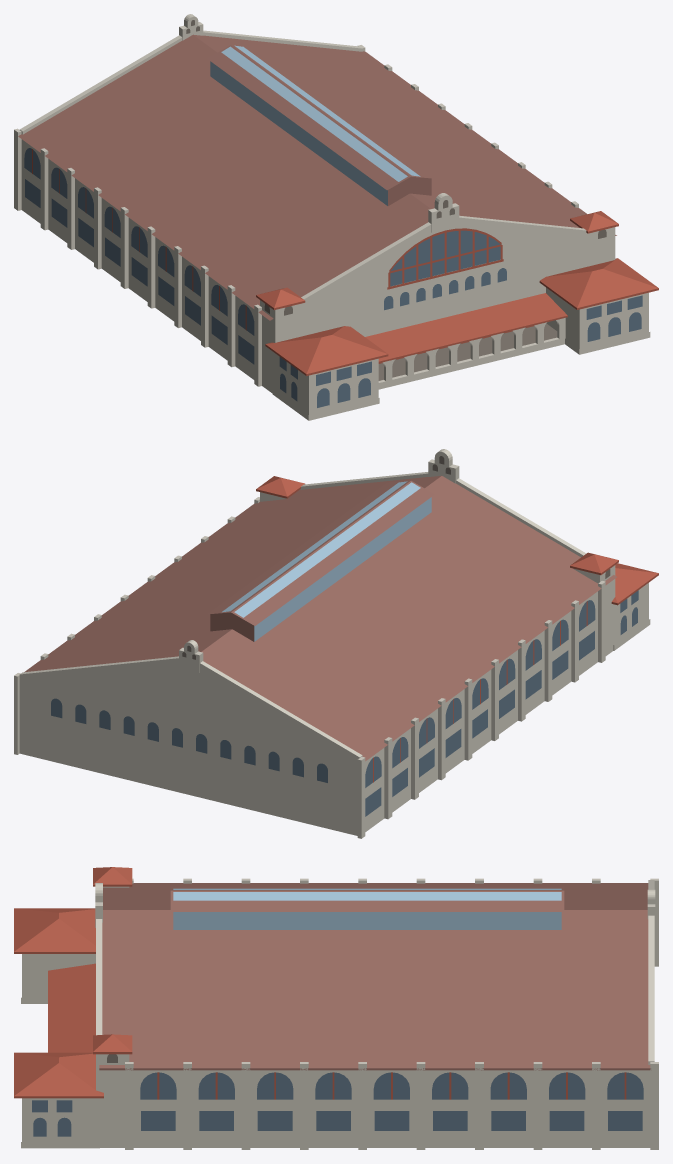
Rendered from dal-cowtown-coliseum.glb.
3 renders of one model, top to bottom at view 1: azimuth 30°, elevation 25°; view 2: azimuth 150°, elevation 25°; view 3: azimuth 270°, elevation 25°, orthographic. The views are drawn at different scales.
Visible parts, largest first — view 1: Cowtown Coliseum; view 2: Cowtown Coliseum; view 3: Cowtown Coliseum.
Boxes of the visible parts, x1=… form: Cowtown Coliseum: x1=14, y1=14, x2=658, y2=420; Cowtown Coliseum: x1=14, y1=449, x2=658, y2=838; Cowtown Coliseum: x1=14, y1=867, x2=658, y2=1149.
Size of the model in its own units: 56.4 by 24.25 by 81.75.
